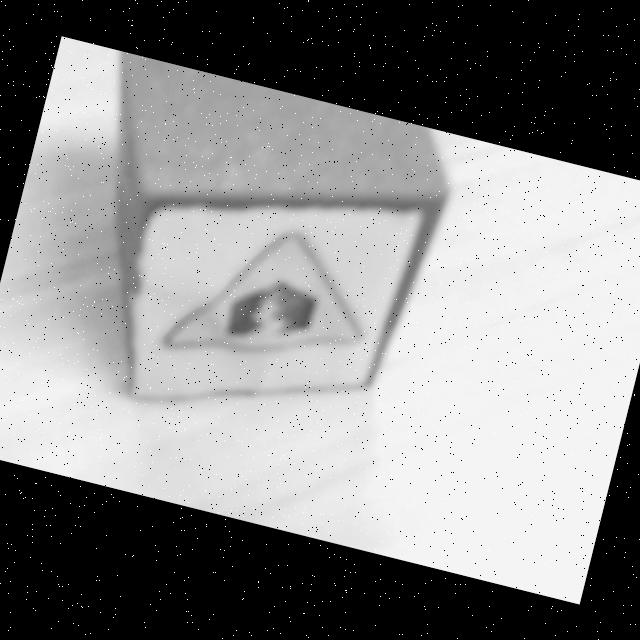Earthquake: (160, 232, 365, 356)
